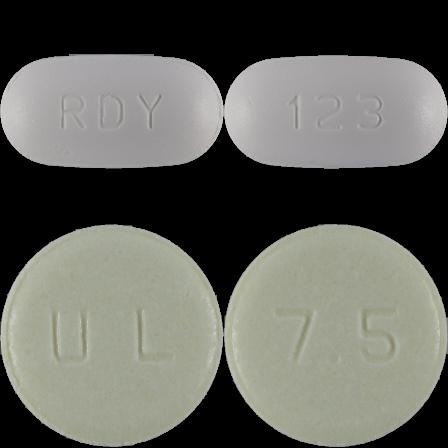70786-0123: (0, 0, 224, 224)
